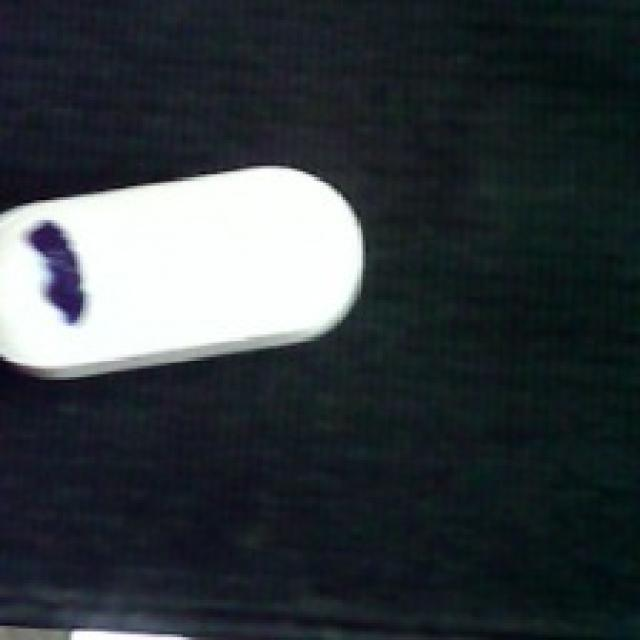defected: (0, 165, 371, 380)
